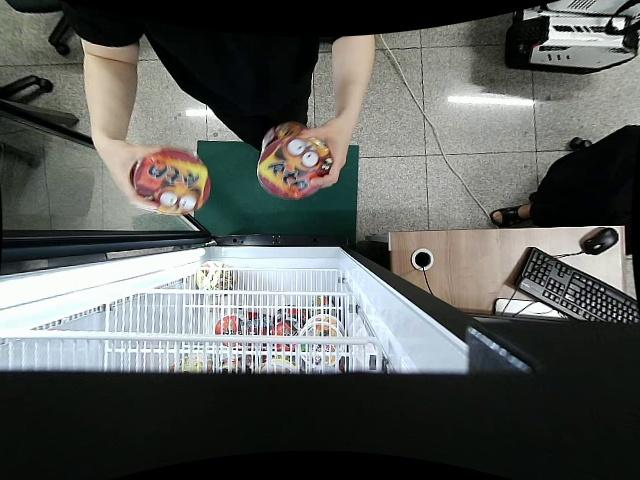00_hand: (106, 140, 162, 215), (295, 118, 350, 189)
05_nuguri_L: (257, 123, 333, 200), (131, 149, 213, 214)
